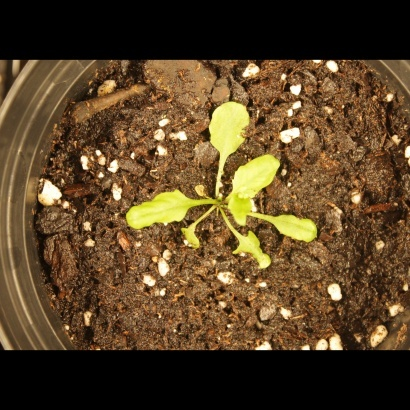leaf: (199, 98, 254, 166), (223, 153, 291, 200), (124, 188, 196, 232), (257, 213, 327, 246), (231, 230, 275, 276), (227, 189, 256, 227), (178, 224, 208, 254)
